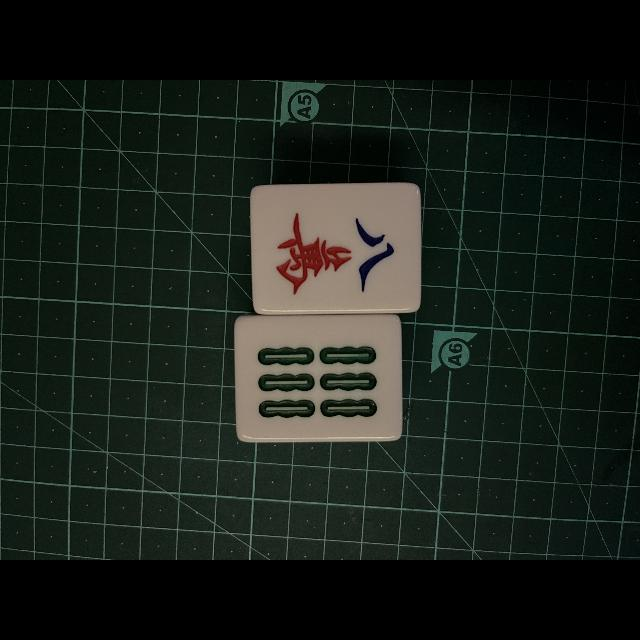b6: (236, 317, 400, 437)
c8: (253, 185, 417, 308)
